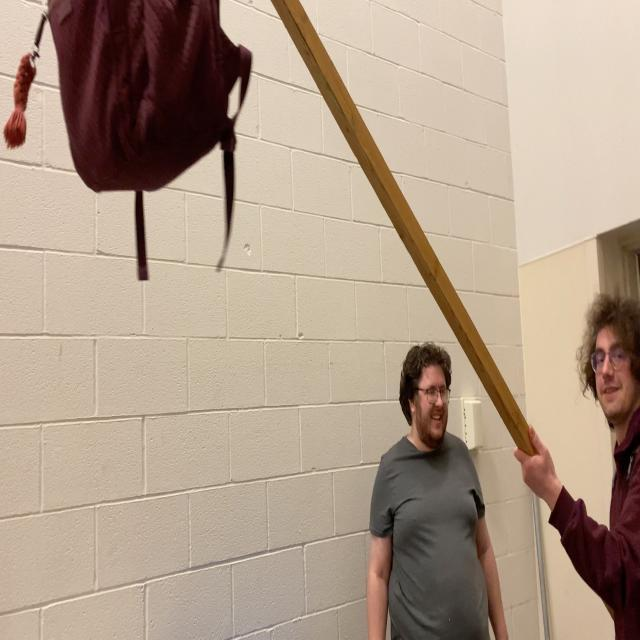Backpacks: (46, 0, 234, 194)
